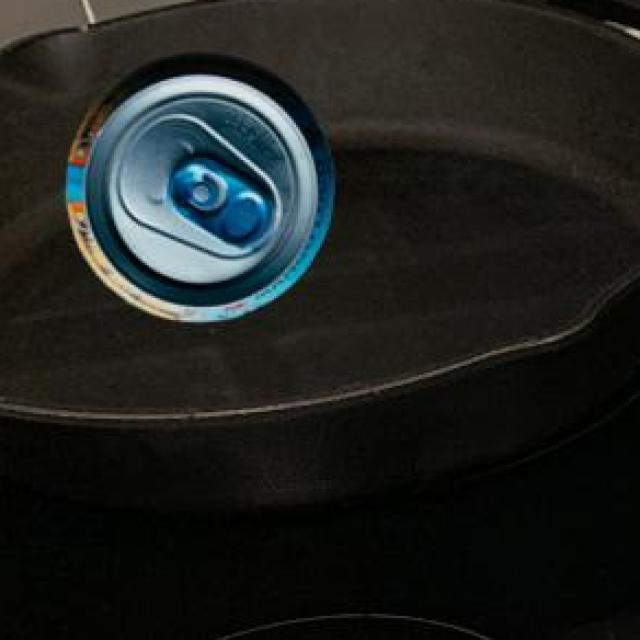logam: (62, 49, 330, 319)
